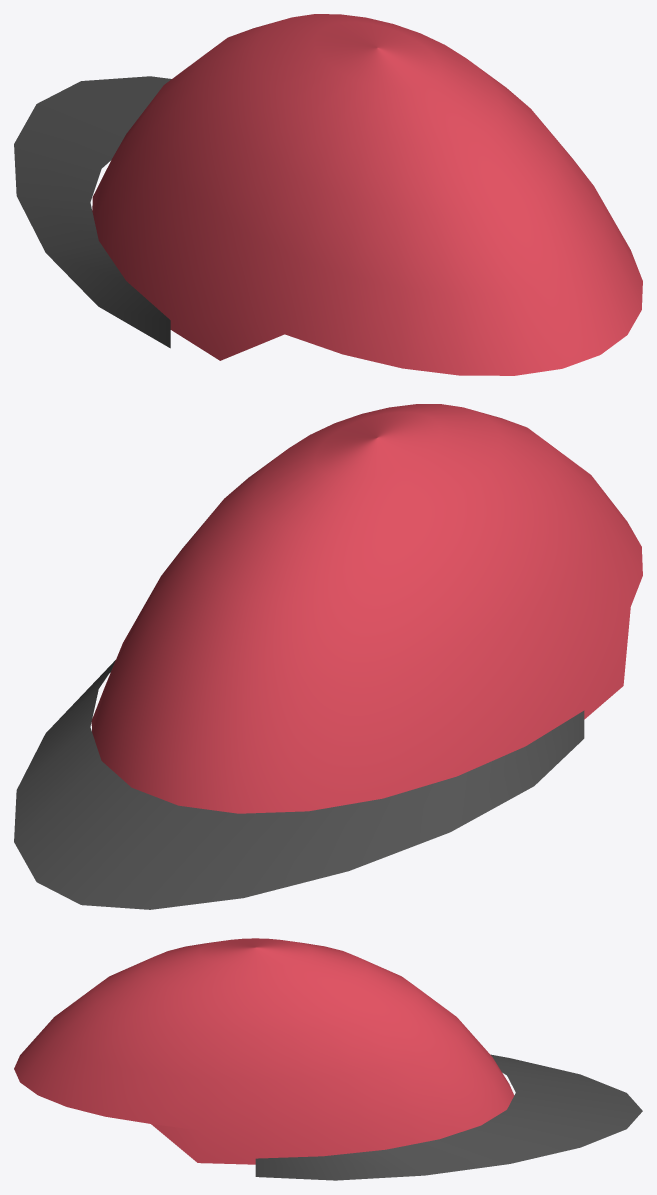
Rendered from bone_tras_vermelho.glb.
3 renders of one model, top to bottom at view 1: azimuth 30°, elevation 25°; view 2: azimuth 150°, elevation 25°; view 3: azimuth 270°, elevation 25°, orthographic. The views are drawn at different scales.
Parts seen in each view (by area): view 1: bone_tras_vermelho; view 2: bone_tras_vermelho; view 3: bone_tras_vermelho.
Boxes of the visible parts, x1=… form: bone_tras_vermelho: x1=14, y1=14, x2=642, y2=375; bone_tras_vermelho: x1=14, y1=404, x2=642, y2=909; bone_tras_vermelho: x1=14, y1=938, x2=642, y2=1180.
Size of the model in its own units: 0.1942 by 0.1065 by 0.3711.
